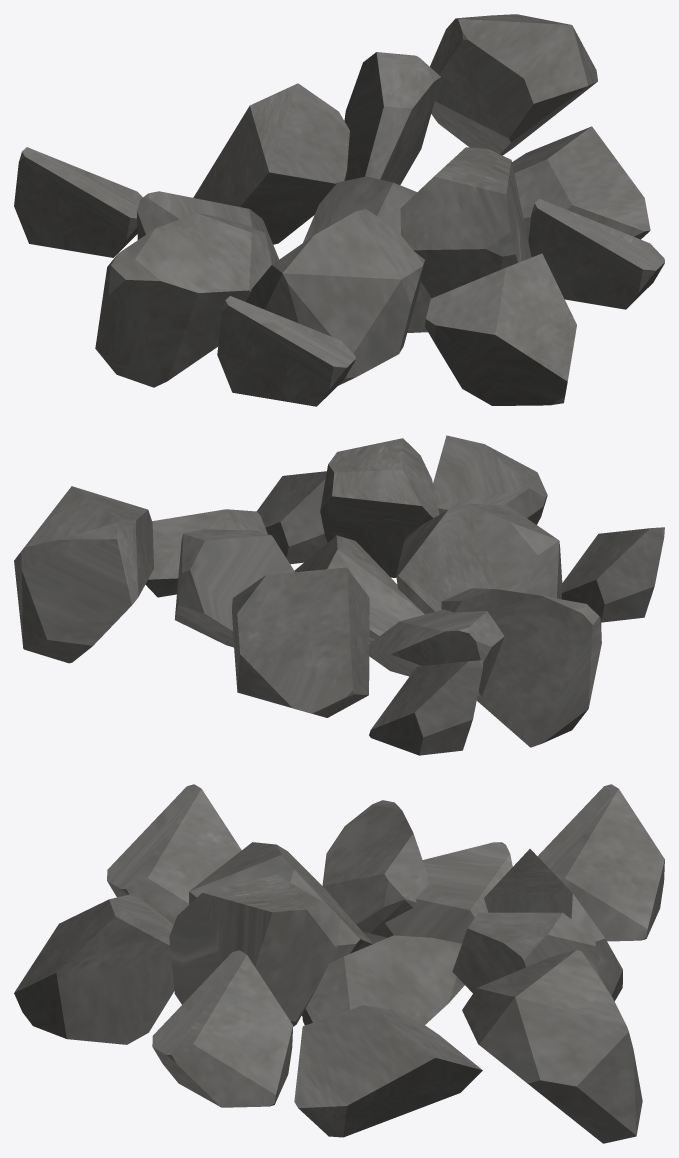
Rendered from macerie.FBX.
The picture shows the model from 3 angles, top to bottom: view 1: azimuth 30°, elevation 25°; view 2: azimuth 150°, elevation 25°; view 3: azimuth 270°, elevation 25°; orthographic projection. The views are drawn at different scales.
Visible parts, largest first — view 1: macerie; view 2: macerie; view 3: macerie.
Part boxes in pixels (x1,y1,x2,y2): macerie: (14, 14, 664, 406); macerie: (14, 435, 664, 755); macerie: (14, 784, 664, 1143).
Bounding box in the file's own units: 152 × 54.12 × 148.
1 material, 1 textured.
